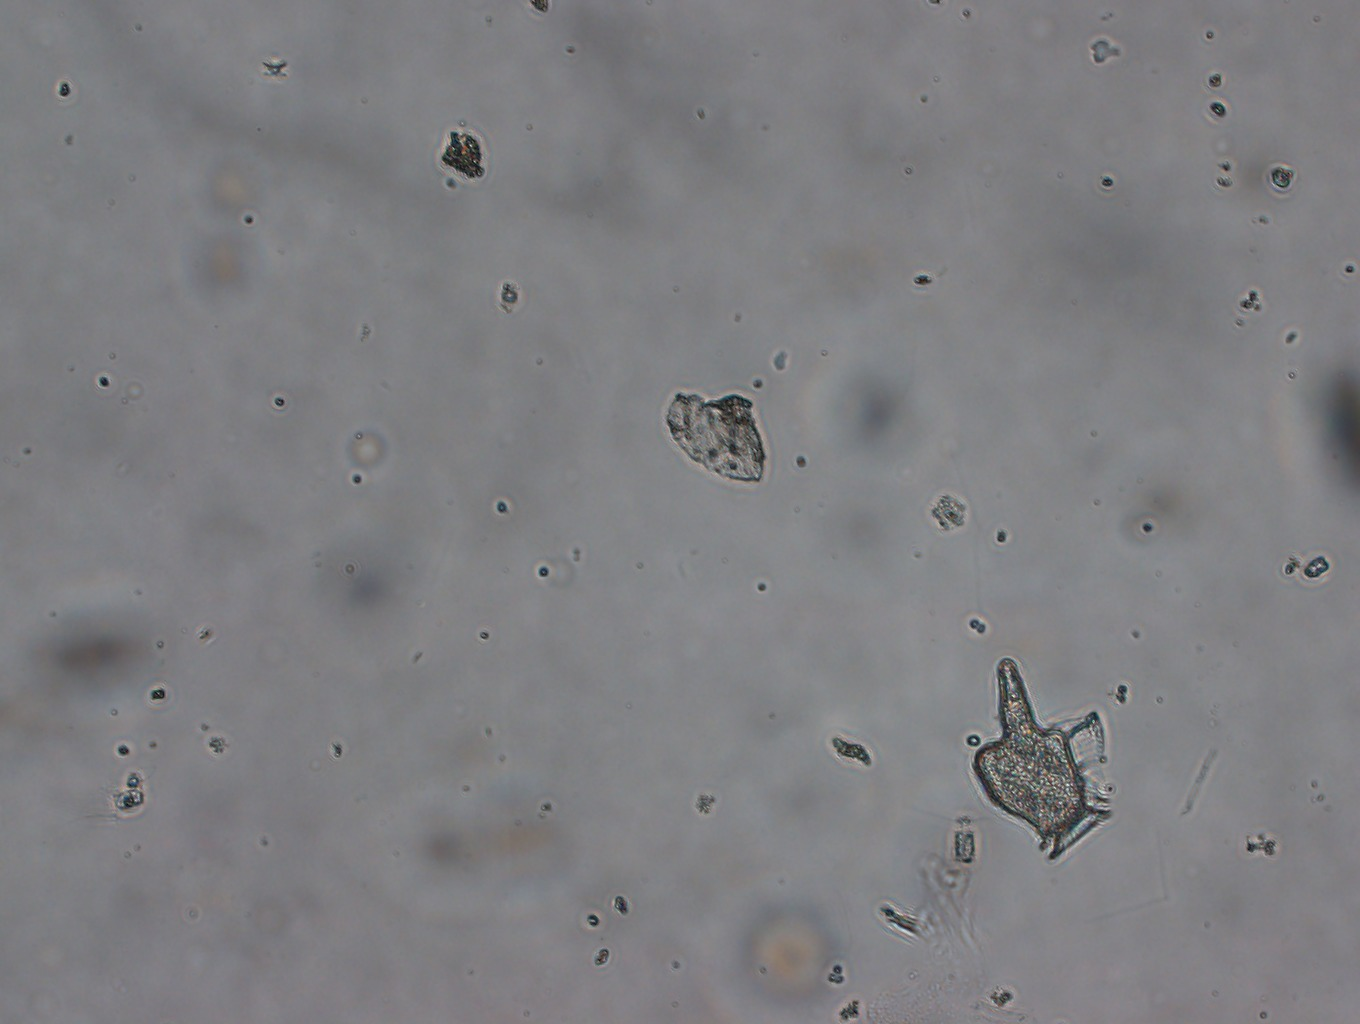dinophysis caudata: (960, 651, 1123, 863)
